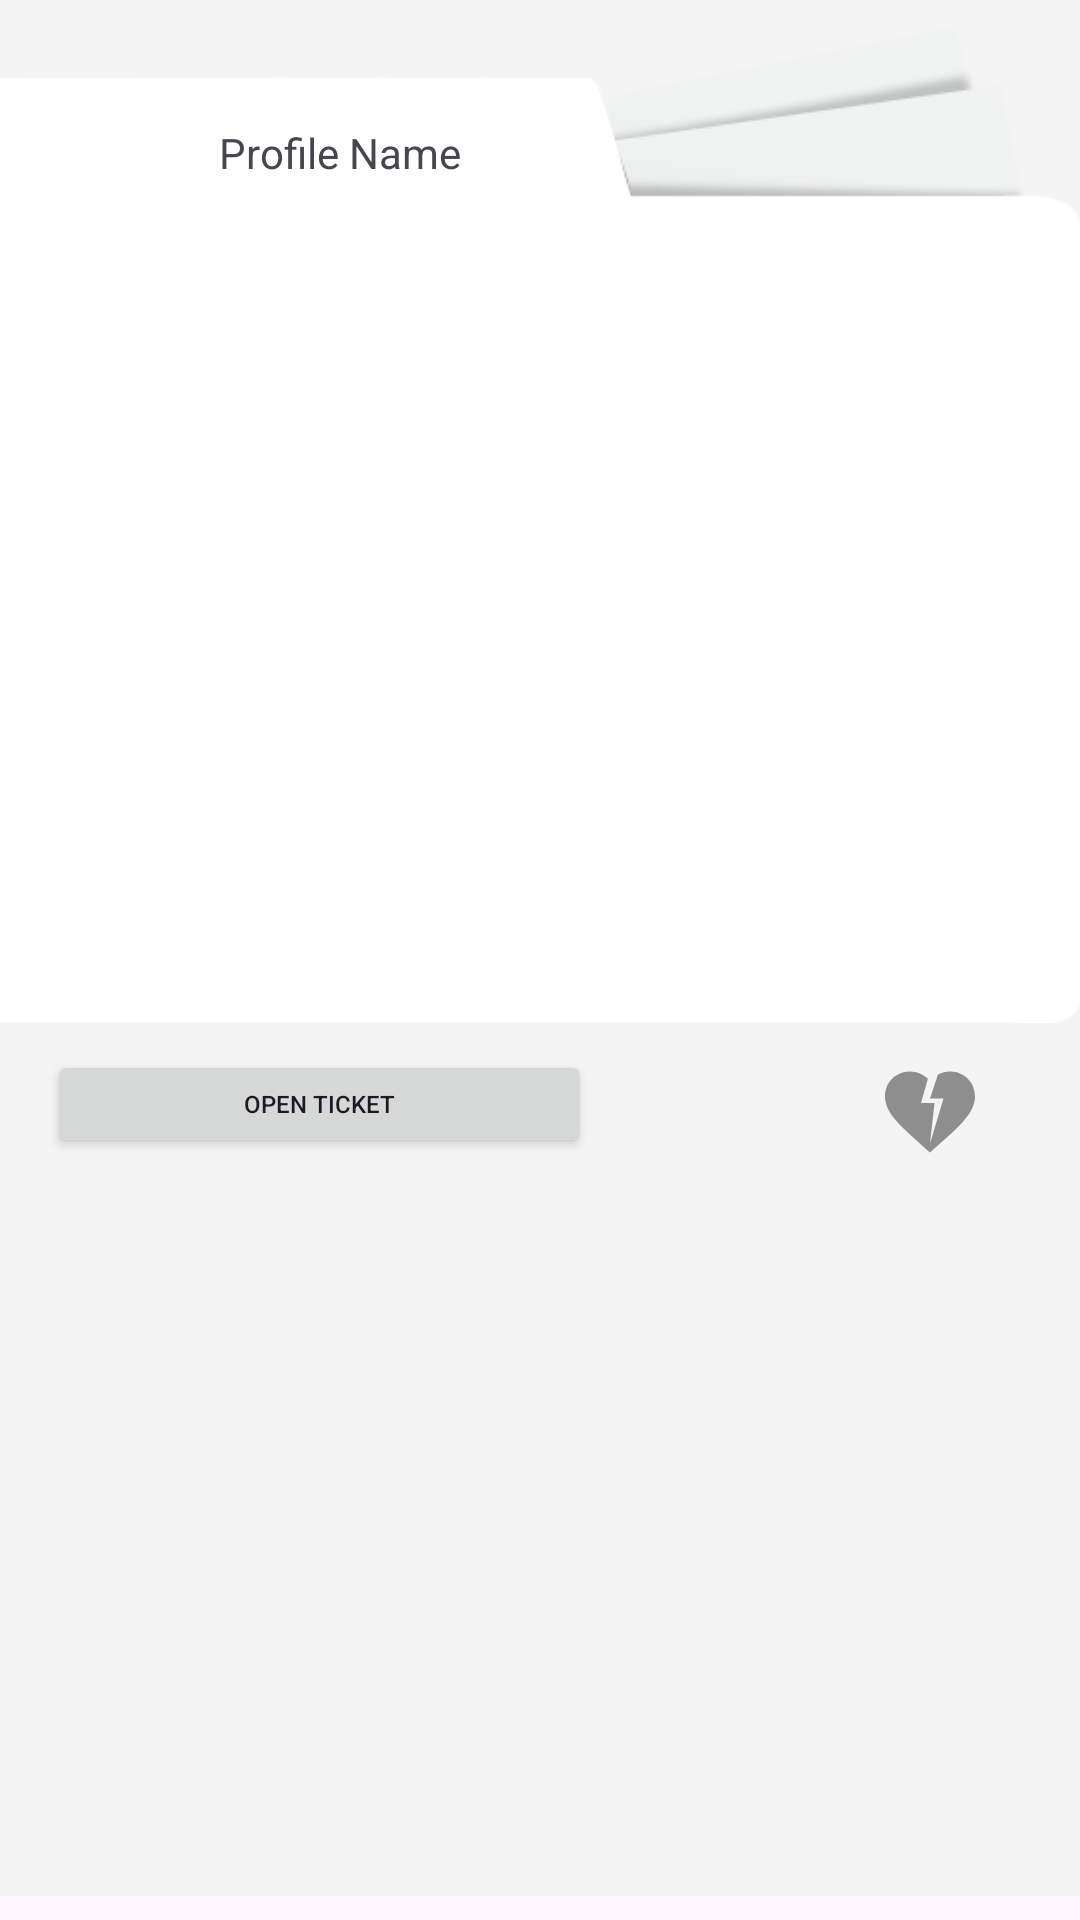

Named icons in this screenshot (1080w x 1920h) and their bounding boxes, (x1, y1, x2, y2):
heart broken: (885, 1071, 975, 1152)
